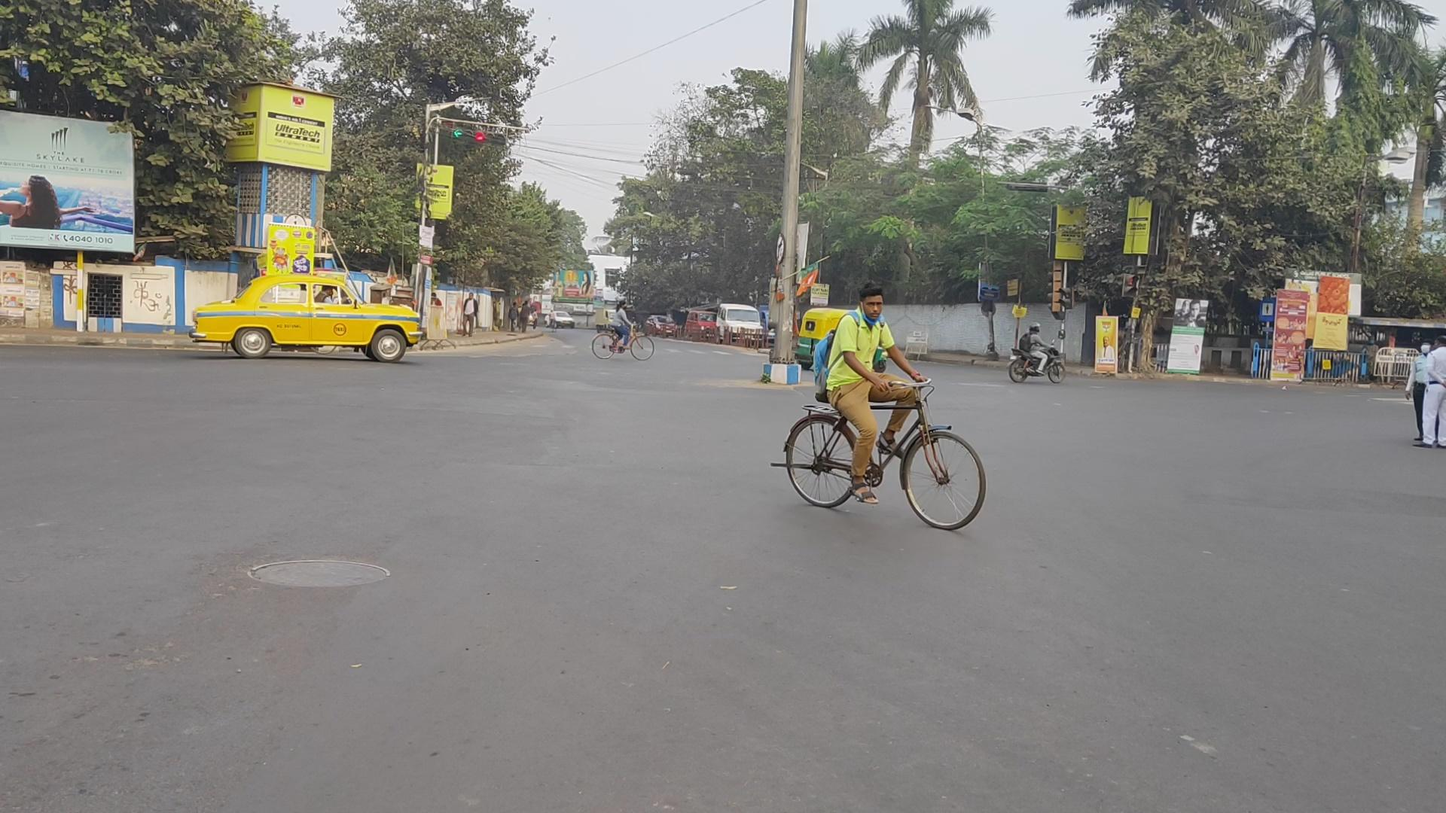Auto: (795, 308, 893, 373)
bike: (770, 282, 987, 531), (592, 300, 654, 361), (1007, 322, 1067, 385)
car: (189, 274, 423, 364), (715, 303, 764, 346), (684, 309, 718, 342), (644, 314, 680, 340), (543, 311, 576, 330)
